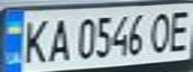0: (72, 14, 96, 61)
4: (112, 11, 133, 57)
5: (93, 12, 115, 60)
6: (127, 10, 151, 56)
A: (42, 14, 72, 63)
E: (163, 6, 193, 54)
K: (15, 15, 51, 64)
O: (148, 8, 175, 55)
